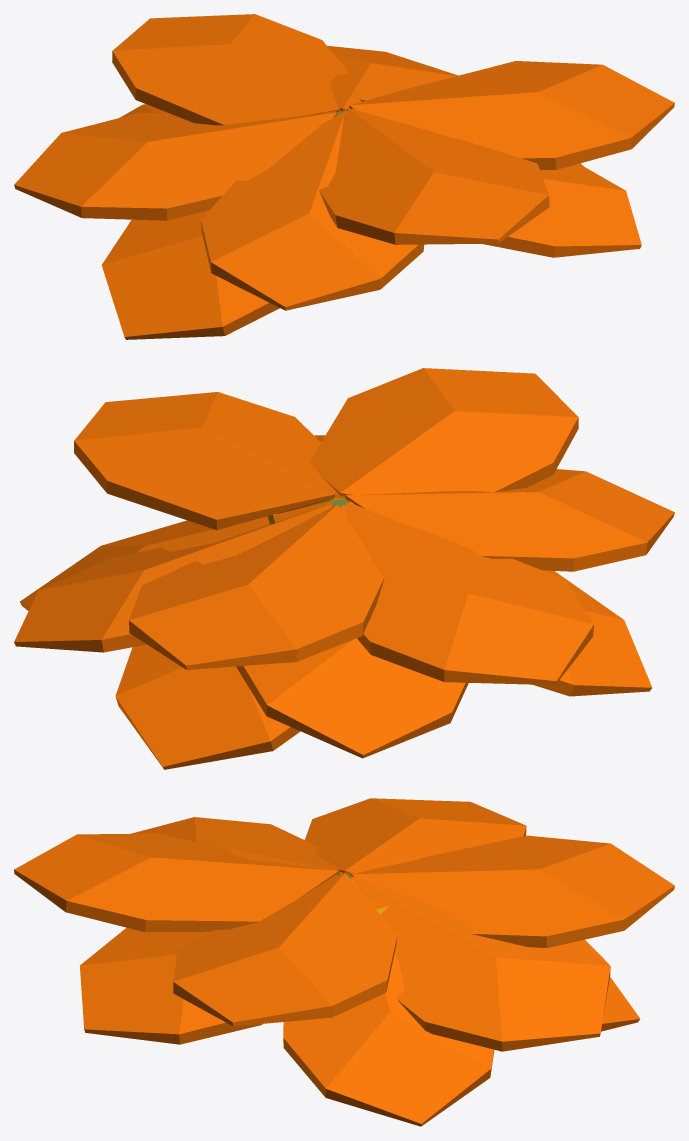
The model's file is Power Up 2.fbx.
3 renders of one model, top to bottom at view 1: azimuth 30°, elevation 25°; view 2: azimuth 150°, elevation 25°; view 3: azimuth 270°, elevation 25°, orthographic. The views are drawn at different scales.
Parts seen in each view (by area): view 1: calendula-flower; view 2: calendula-flower; view 3: calendula-flower.
Boxes of the visible parts, x1,y1,x2,y2 form: calendula-flower: (14,14,674,339); calendula-flower: (14,368,674,769); calendula-flower: (14,798,674,1126).
Bounding box in the file's own units: 187 × 51.95 × 201.
